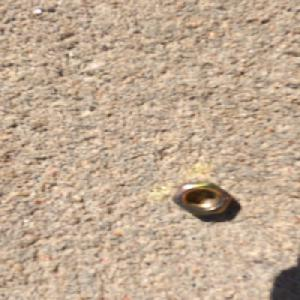Nut: (171, 180, 235, 217)
